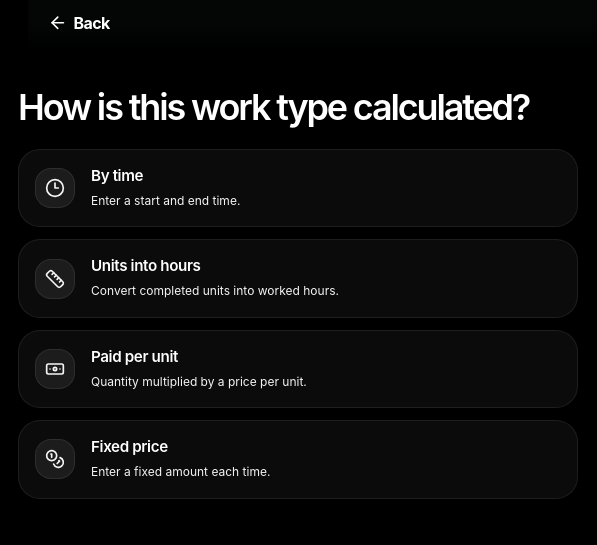
Test case: WorkTypeEditorPage › shows backend validation and preserves form values
Click the button "By time Enter a start and end time." at (55, 188), box [18,149,578,227]
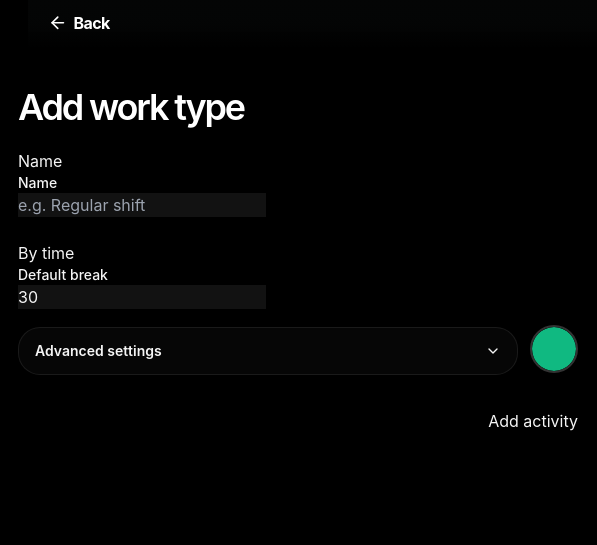
Type "Check" into the field labelled "Name" at (142, 205), box [18,193,266,217]
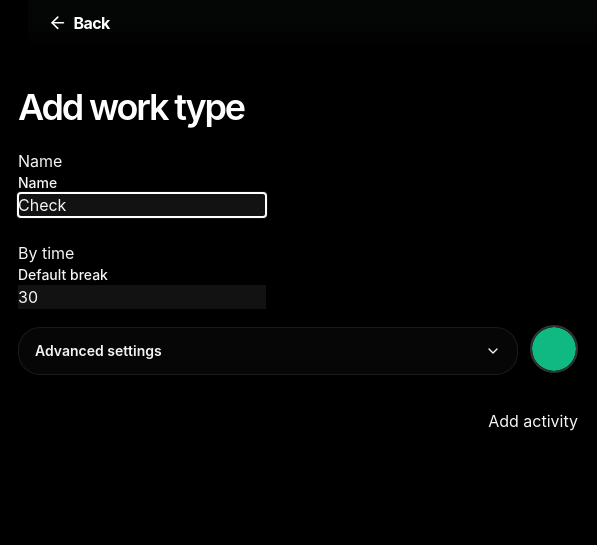
Click the button "Add activity" at (533, 421), box [488,409,578,433]
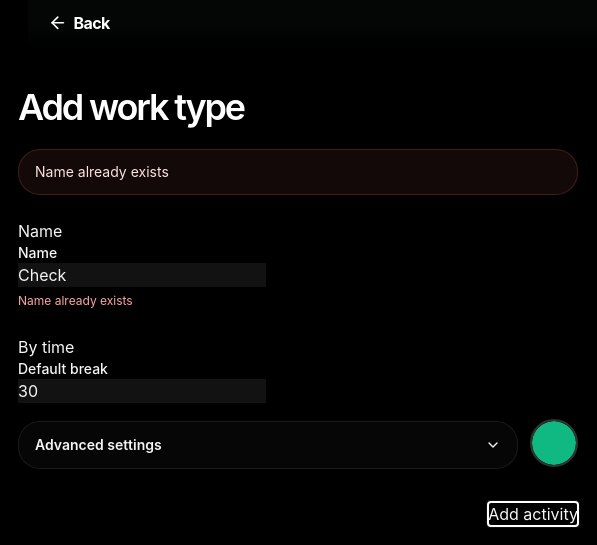
Now the text "Name already exists" is shown 2 times, box [18,149,578,195]; [18,293,133,308]
